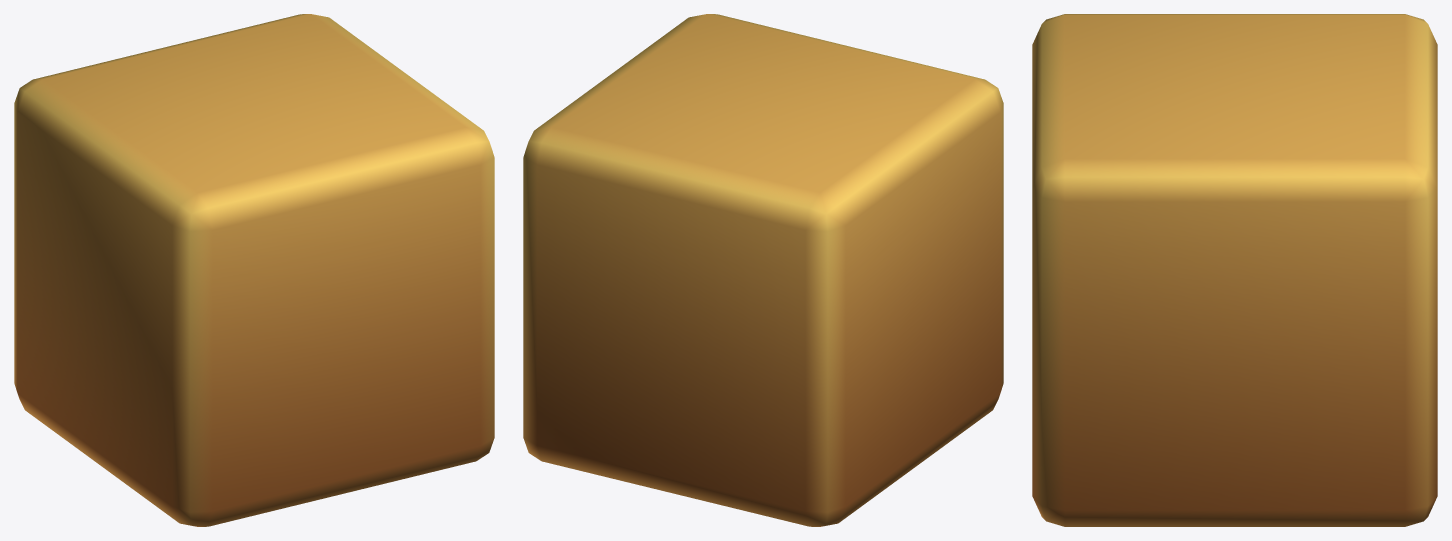
File: cube_gold.obj
3 renders of one model, left to right at view 1: azimuth 30°, elevation 25°; view 2: azimuth 150°, elevation 25°; view 3: azimuth 270°, elevation 25°, orthographic. The views are drawn at different scales.
Visible parts, largest first — view 1: cube_gold; view 2: cube_gold; view 3: cube_gold.
Boxes of the visible parts, bbox=[...] form: cube_gold: bbox=[14, 14, 494, 526]; cube_gold: bbox=[523, 14, 1003, 526]; cube_gold: bbox=[1032, 14, 1437, 526].
Bounding box in the file's own units: 0.5 × 0.5 × 0.5.
1 material, 1 textured.
